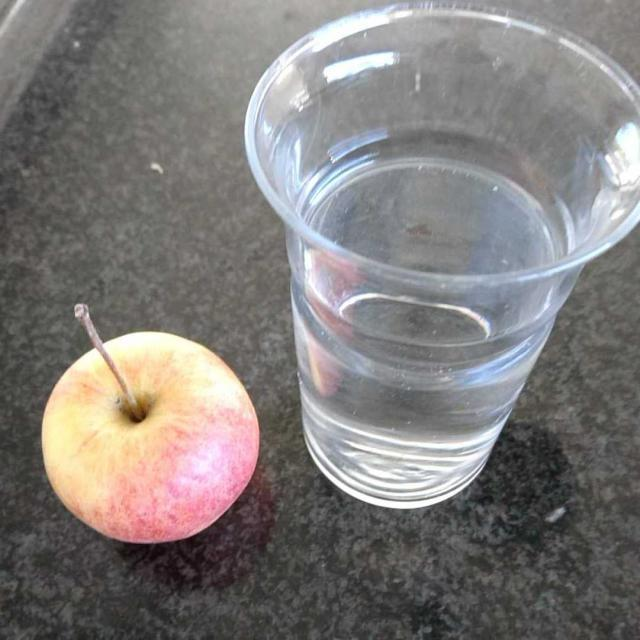apple: (45, 336, 254, 539)
water: (301, 177, 560, 511)
